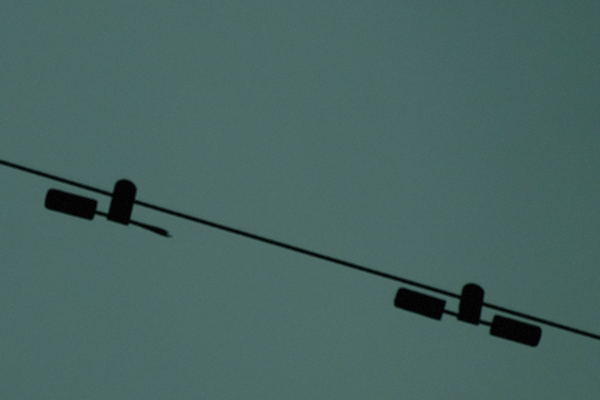damper: (388, 280, 544, 349)
damper_defect: (39, 176, 175, 242)
